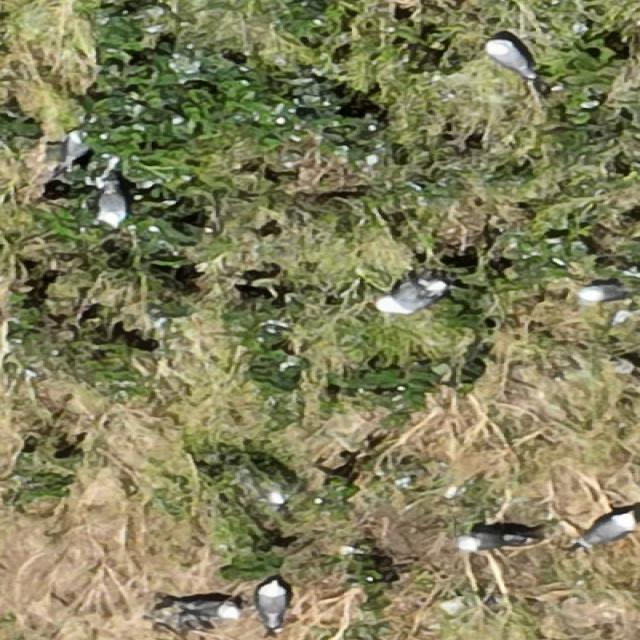umineko: (375, 282, 449, 314), (489, 42, 528, 75), (60, 130, 90, 172), (97, 182, 125, 226), (588, 514, 635, 540), (457, 535, 531, 551), (179, 601, 236, 621), (260, 582, 286, 625), (584, 283, 620, 300)
